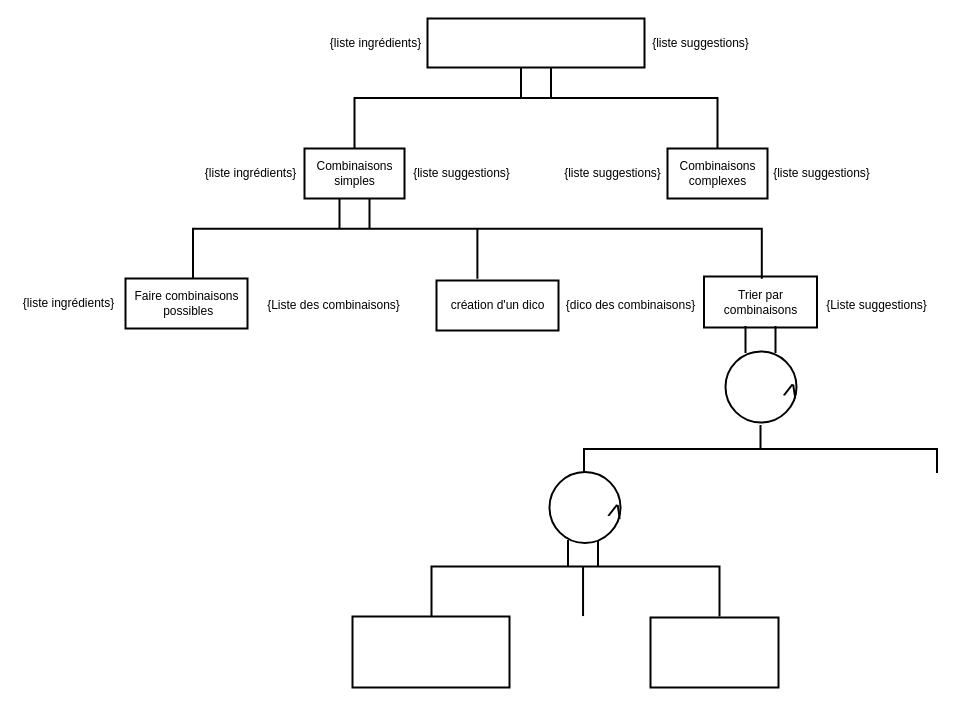
Image size: 955x705. Some labels were removed from this diagram. Here are the shapes that lost their labels. From the top down, the box of each, then its label:
(426, 17, 645, 68): Faire les suggestions
(351, 615, 510, 688): regarder nb recettes
(649, 616, 779, 688): placer
